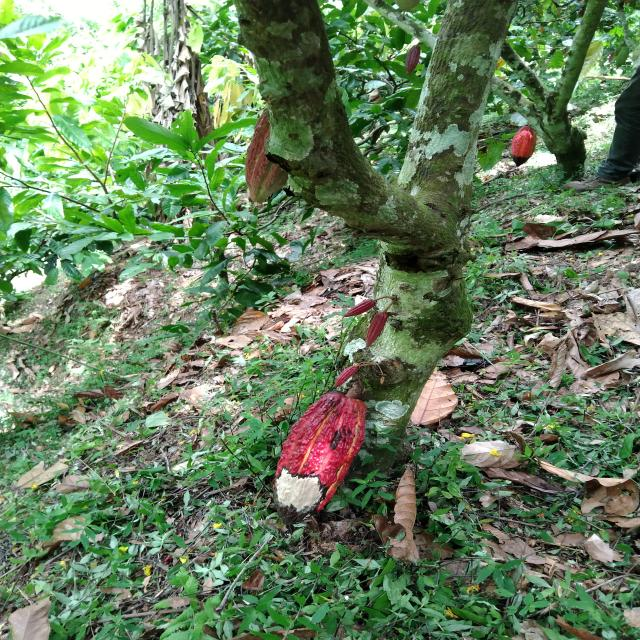Fitoftora: (511, 125, 537, 168)
Monilia: (267, 393, 372, 517)
Sana: (244, 126, 288, 205), (367, 310, 388, 348), (343, 298, 372, 318), (334, 366, 356, 386), (406, 44, 421, 72)
